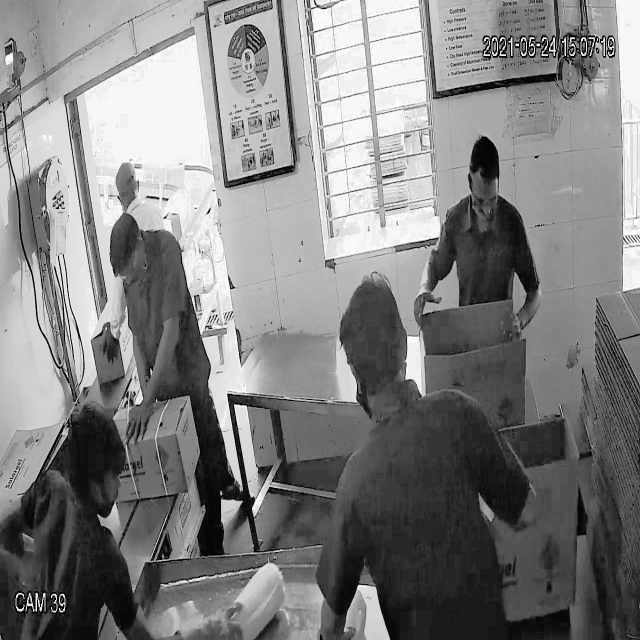Gafas: (465, 185, 504, 214)
